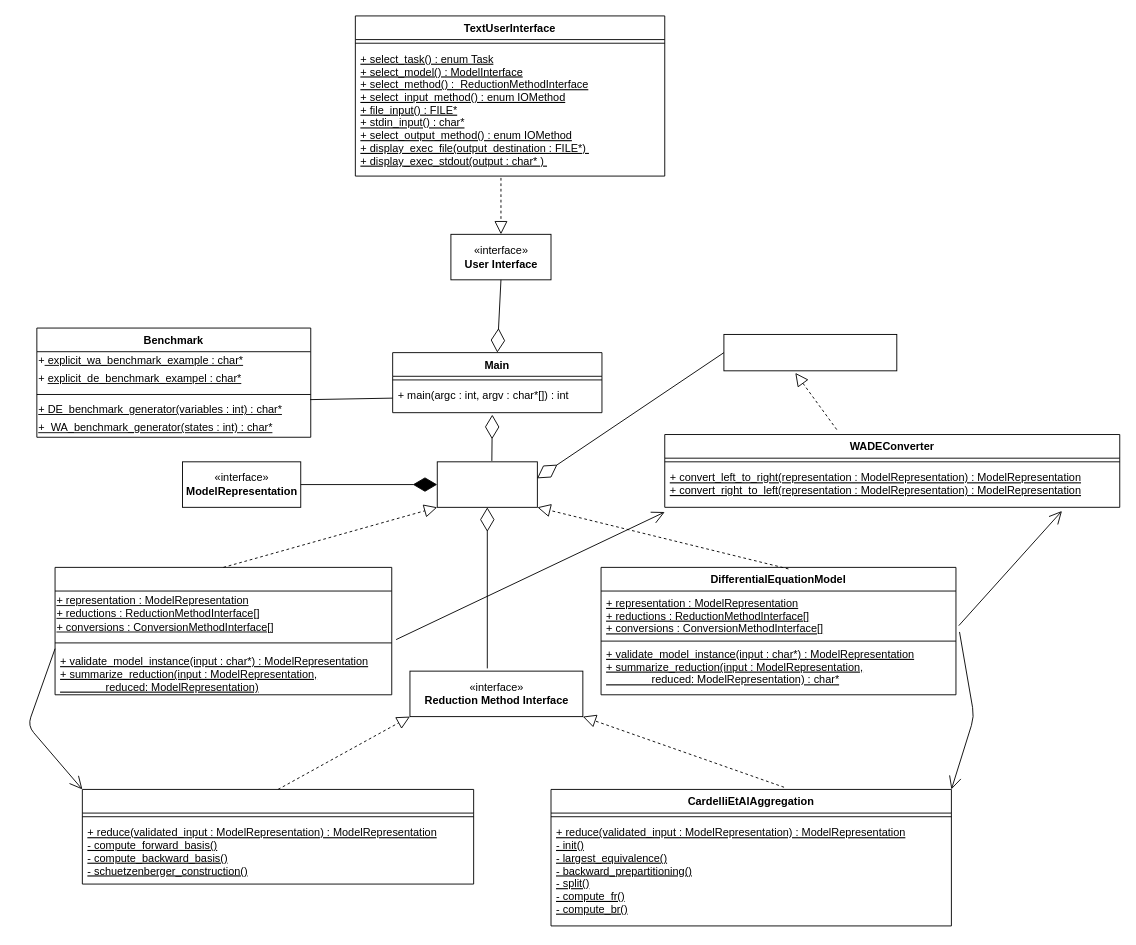
This 1136x945 diagram has some shape labels left out. Each missing label, with the box of its shape:
KieferWachterMinimization: (81, 789, 474, 884)
WeightedAutomatonModel: (54, 566, 392, 695)
«interface» Model Conversion Interface: (723, 334, 897, 371)
«interface» Model Interface: (436, 461, 537, 507)
